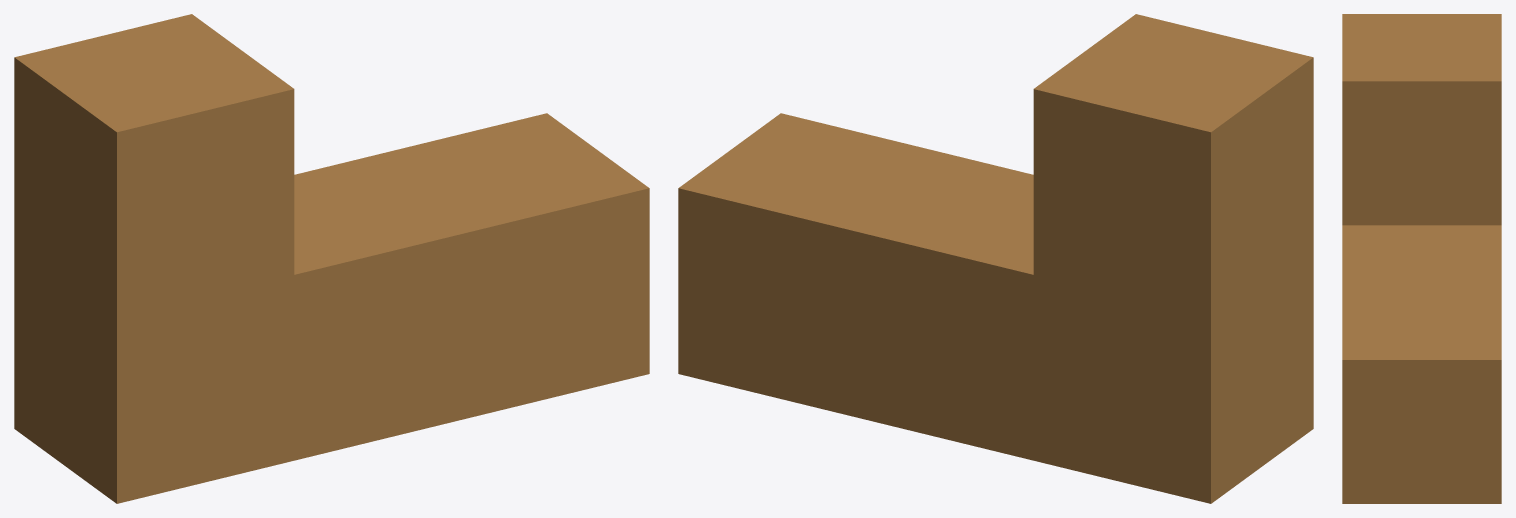
Rendered from case_357_h_magnum.glb.
3 renders of one model, left to right at view 1: azimuth 30°, elevation 25°; view 2: azimuth 150°, elevation 25°; view 3: azimuth 270°, elevation 25°, orthographic. The views are drawn at different scales.
Parts seen in each view (by area): view 1: cartridge:cartridge-model; view 2: cartridge:cartridge-model; view 3: cartridge:cartridge-model.
Part boxes in pixels (<box>): cartridge:cartridge-model: <box>14,14,649,503</box>; cartridge:cartridge-model: <box>678,14,1313,503</box>; cartridge:cartridge-model: <box>1342,14,1501,503</box>.
Size of the model in its own units: 0.03 by 0.02 by 0.01.
